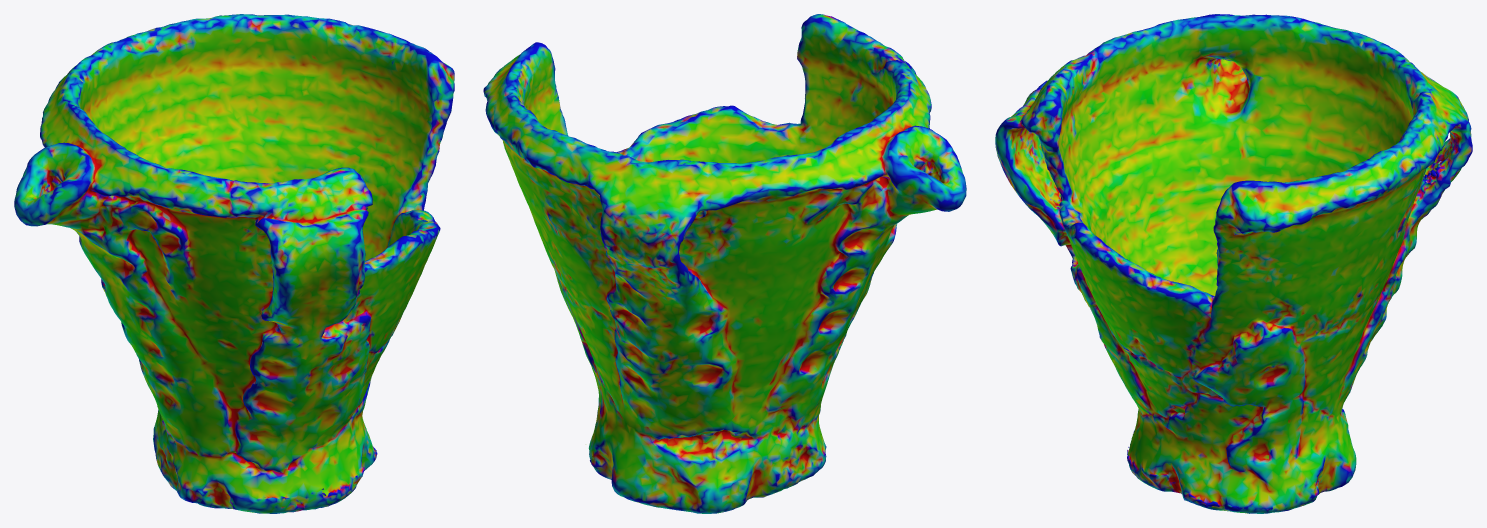
Rendered from CeramiqueMortier_QuadricEdgeDecimationX3+preserve.obj.
3 renders of one model, left to right at view 1: azimuth 30°, elevation 25°; view 2: azimuth 150°, elevation 25°; view 3: azimuth 270°, elevation 25°, orthographic. The views are drawn at different scales.
Bounding box in the file's own units: 4.7 × 3.93 × 4.47.
